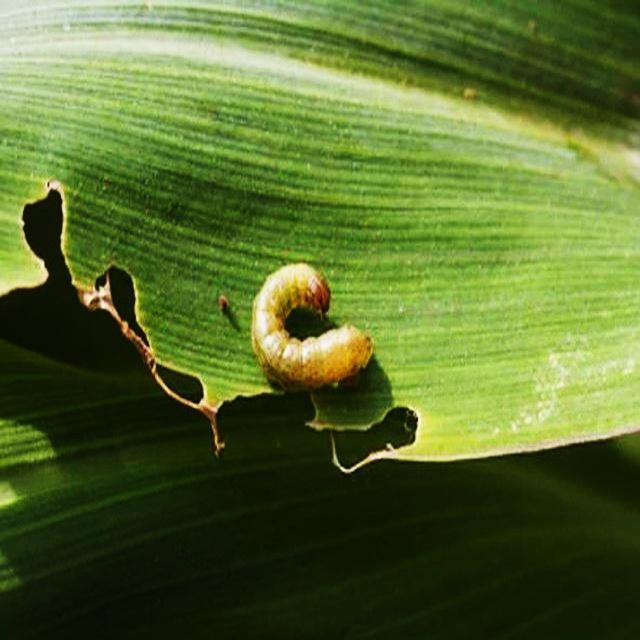gusano_cogollero: (248, 259, 376, 391)
